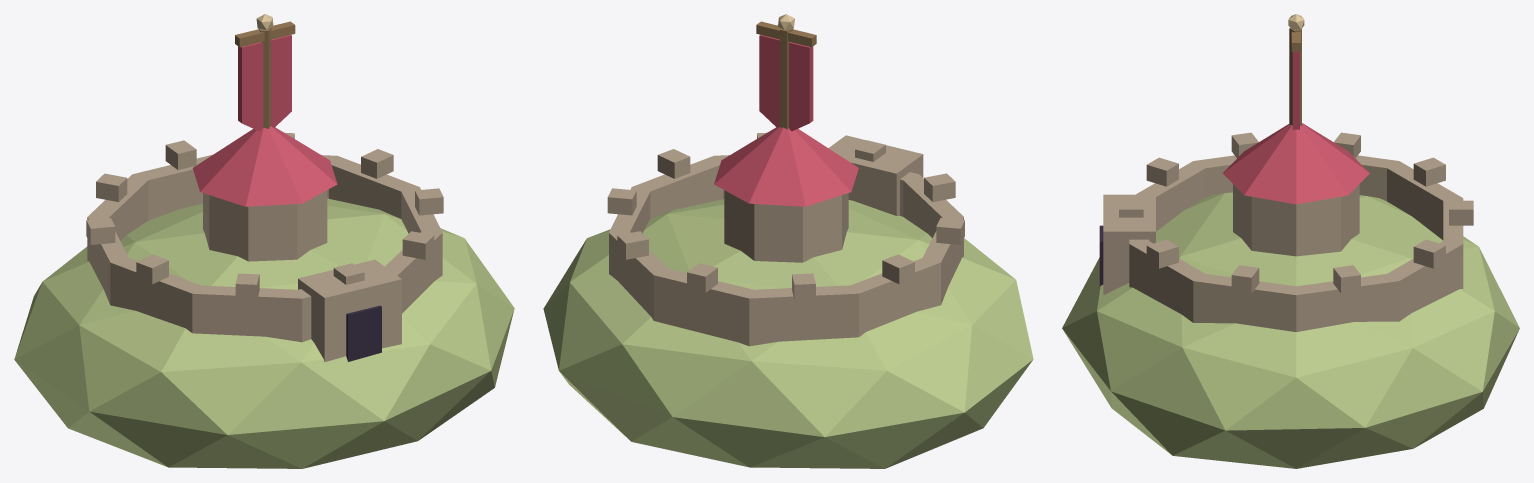
File: castle-mound.glb
The picture shows the model from 3 angles, left to right: view 1: azimuth 30°, elevation 25°; view 2: azimuth 150°, elevation 25°; view 3: azimuth 270°, elevation 25°; orthographic projection.
Parts seen in each view (by area): view 1: medieval-castle-mound; view 2: medieval-castle-mound; view 3: medieval-castle-mound.
Boxes of the visible parts, x1,y1,x2,y2 form: medieval-castle-mound: (14, 14, 514, 468); medieval-castle-mound: (543, 14, 1033, 468); medieval-castle-mound: (1062, 14, 1519, 468).
Size of the model in its own units: 2.77 by 2.3 by 2.61.
